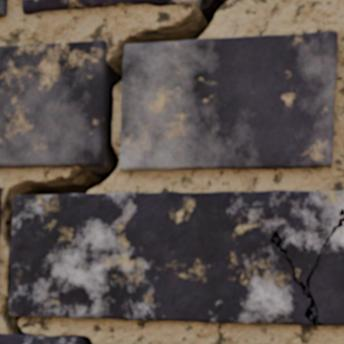brick: (11, 191, 343, 325), (120, 32, 337, 171), (0, 41, 106, 167), (311, 227, 343, 325), (0, 335, 82, 343), (0, 0, 7, 16), (0, 189, 1, 207)
broken_brick: (22, 0, 193, 15)
crack: (0, 0, 343, 343), (270, 207, 343, 327)
